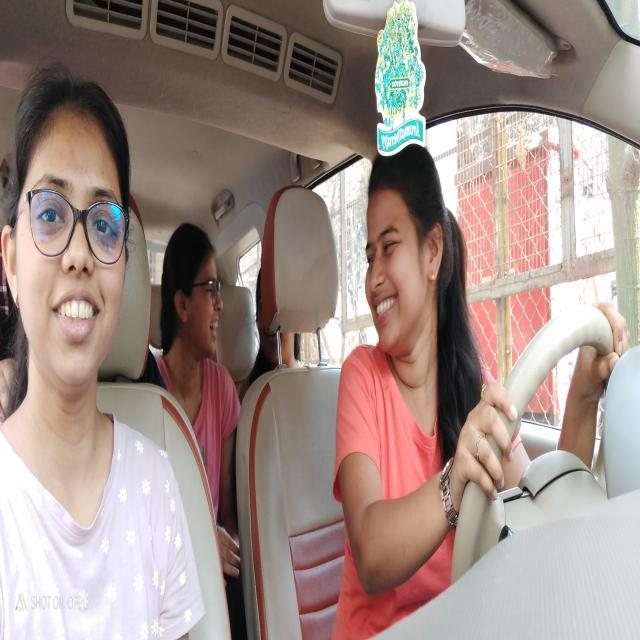LeftRight: (360, 134, 450, 368)
person: (2, 72, 137, 412), (161, 226, 225, 375), (254, 265, 303, 366)
talking: (372, 291, 400, 325)
